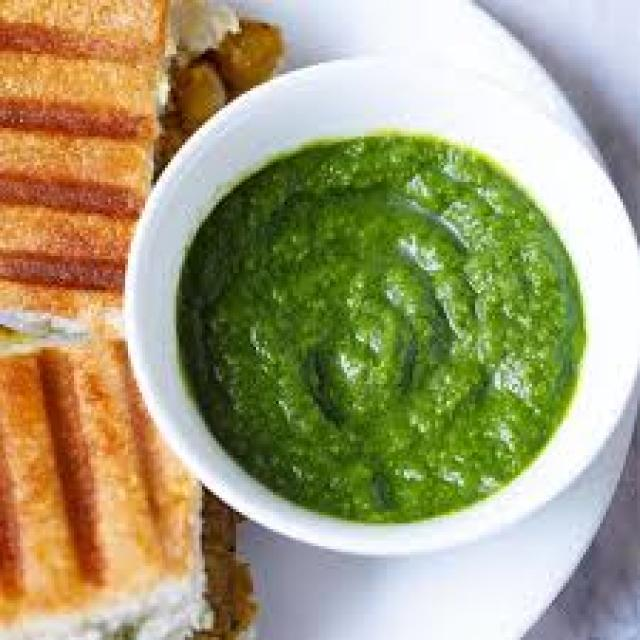GREEN CHUTNEY: (170, 126, 587, 532)
